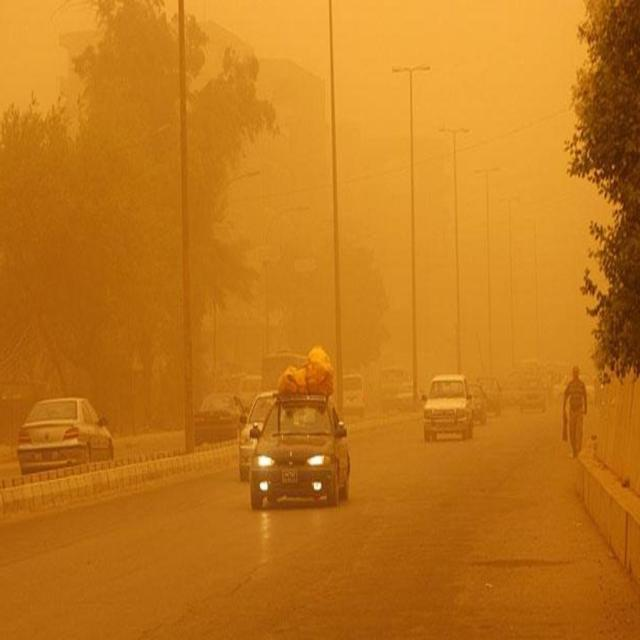Car: (244, 393, 352, 514), (15, 395, 114, 472), (416, 376, 475, 441)
